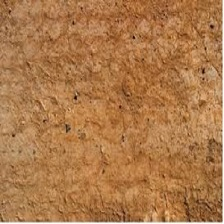clay_soil: (6, 24, 209, 194)
